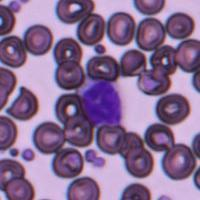L: (80, 78, 124, 126)
